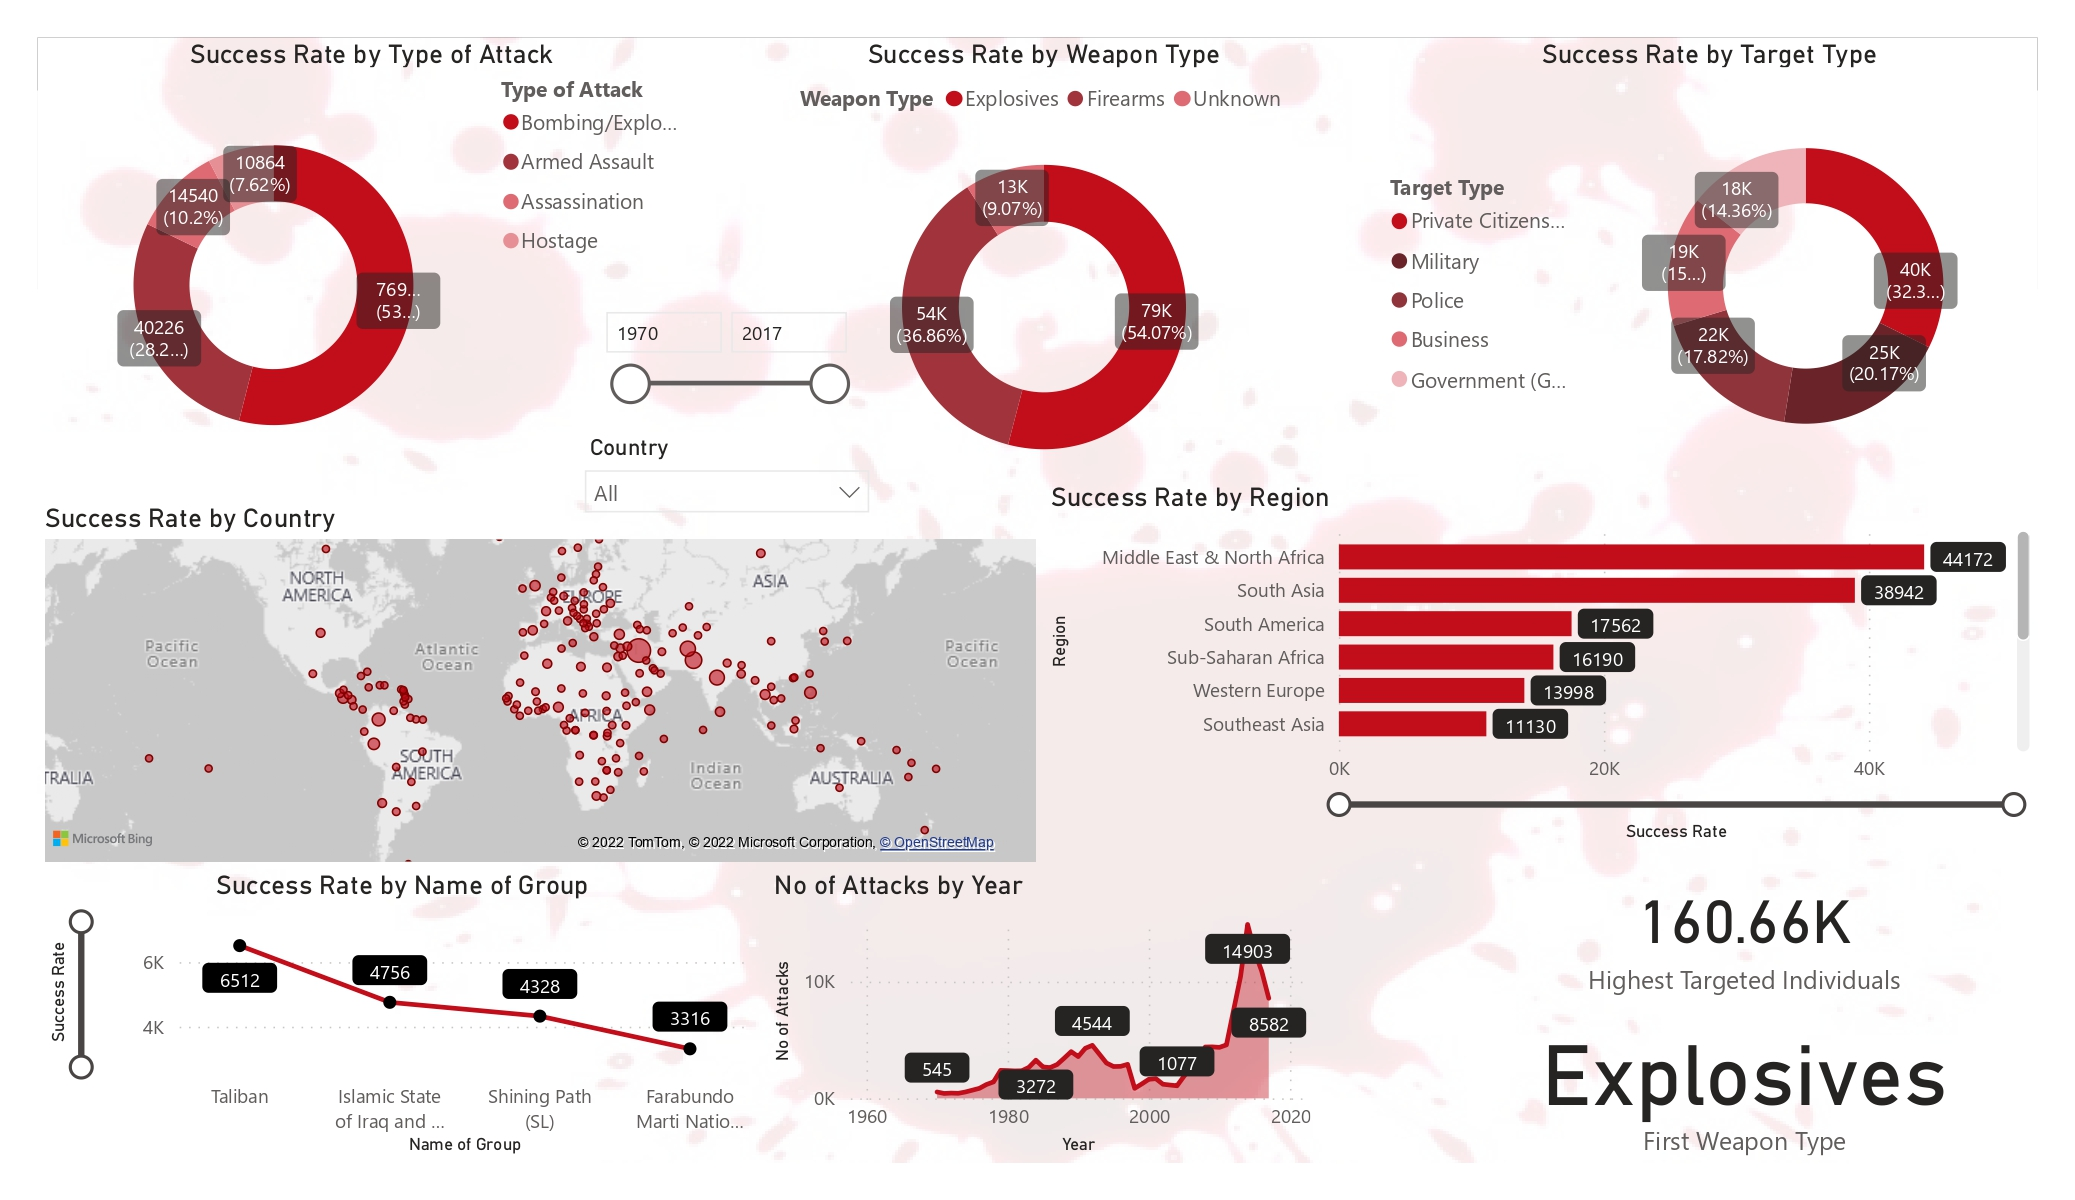

Layout of this report page (visuals, bound fields, positions):
{"tool":"powerbi","page":{"name":"Page 1","canvas":[1280,720],"ordinal":0},"visuals":[{"type":"donutChart","fields":{"Category":["Final Data.Type of Attack"],"Y":["Sum(Final Data.Success Rate)"]},"box":[0,0,427.5,297.5],"z":0},{"type":"donutChart","fields":{"Category":["Final Data.Weapon Type"],"Y":["Sum(Final Data.Success Rate)"]},"box":[427,0,434,297],"z":1000},{"type":"lineChart","fields":{"Y":["Sum(Final Data.Success Rate)"],"Category":["Final Data.Name of Group"]},"box":[0,532,467,188],"z":2000},{"type":"map","fields":{"Category":["Final Data.Country"],"Size":["Sum(Final Data.Success Rate)"]},"box":[0,297,644,235],"z":3000},{"type":"slicer","fields":{"Values":["Final Data.Country"]},"box":[340,249,202,70],"z":4000},{"type":"barChart","fields":{"Category":["Final Data.Region"],"Y":["Sum(Final Data.Success Rate)"]},"box":[644,284,636,235],"z":5000},{"type":"donutChart","fields":{"Y":["Sum(Final Data.Success Rate)"],"Category":["Final Data.Target Type"]},"box":[861,0,419,297],"z":6000},{"type":"slicer","fields":{"Values":["Final Data.Year"]},"box":[351,166,177,80],"z":7000},{"type":"areaChart","fields":{"Category":["Final Data.Year"],"Y":["CountNonNull(Final Data.Year)"]},"box":[467,532,353,188],"z":8000},{"type":"card","fields":{"Values":["CountNonNull(Final Data.Target Type)"]},"box":[962,519,261,107],"z":9000},{"type":"card","fields":{"Values":["Min(Final Data.Weapon Type)"]},"box":[948,614,290,106],"z":10000}]}

Visuals, with their boxes on the page's 1280x720 design canvas (x1, y1, x2, y2). These are canvas units, not pixel positions in the 2075x1200 screenshot, which may show the page scaled, cropped or inside an application window:
donutChart - Final Data.Type of Attack x Sum(Final Data.Success Rate): {"x1": 0, "y1": 0, "x2": 428, "y2": 298}
donutChart - Final Data.Weapon Type x Sum(Final Data.Success Rate): {"x1": 427, "y1": 0, "x2": 861, "y2": 297}
lineChart - Sum(Final Data.Success Rate) x Final Data.Name of Group: {"x1": 0, "y1": 532, "x2": 467, "y2": 720}
map - Final Data.Country x Sum(Final Data.Success Rate): {"x1": 0, "y1": 297, "x2": 644, "y2": 532}
slicer - Final Data.Country: {"x1": 340, "y1": 249, "x2": 542, "y2": 319}
barChart - Final Data.Region x Sum(Final Data.Success Rate): {"x1": 644, "y1": 284, "x2": 1280, "y2": 519}
donutChart - Sum(Final Data.Success Rate) x Final Data.Target Type: {"x1": 861, "y1": 0, "x2": 1280, "y2": 297}
slicer - Final Data.Year: {"x1": 351, "y1": 166, "x2": 528, "y2": 246}
areaChart - Final Data.Year x CountNonNull(Final Data.Year): {"x1": 467, "y1": 532, "x2": 820, "y2": 720}
card - CountNonNull(Final Data.Target Type): {"x1": 962, "y1": 519, "x2": 1223, "y2": 626}
card - Min(Final Data.Weapon Type): {"x1": 948, "y1": 614, "x2": 1238, "y2": 720}
